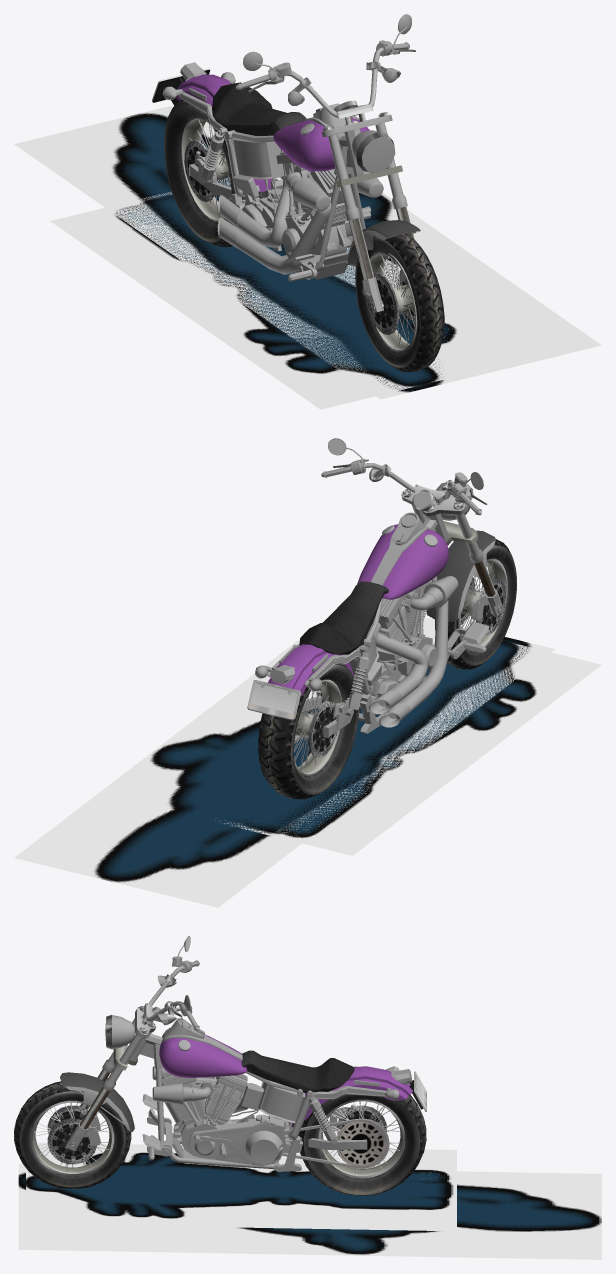
Rendered from bike5_21.fbx.
The picture shows the model from 3 angles, top to bottom: view 1: azimuth 30°, elevation 25°; view 2: azimuth 150°, elevation 25°; view 3: azimuth 270°, elevation 25°; orthographic projection. The views are drawn at different scales.
Parts seen in each view (by area): view 1: Shadow_SunSet, Shadow_DayLight, Reflection, Tyre_F_4, SteeringLights, SteeringChrome, Tyre_B_4, Body, Rim_F_4, Matt, Rim_B_4, SteeringBody; view 2: Shadow_SunSet, Shadow_DayLight, Reflection, Tyre_B_4, Body, Matt, SteeringLights, Rim_B_4, SteeringChrome, Tyre_F_4, Rim_F_4, SteeringBody (+1 smaller); view 3: Shadow_DayLight, Shadow_SunSet, Reflection, Tyre_B_4, Tyre_F_4, Body, Rim_B_4, Rim_F_4, SteeringLights, Matt, SteeringChrome, SteeringBody.
Part boxes in pixels (x1,y1,x2,y2): Shadow_SunSet: [14, 105, 601, 399]; Shadow_DayLight: [50, 178, 529, 409]; Reflection: [162, 62, 416, 281]; Tyre_F_4: [355, 233, 444, 371]; SteeringLights: [235, 14, 420, 312]; SteeringChrome: [248, 47, 415, 310]; Tyre_B_4: [164, 100, 267, 247]; Body: [176, 74, 369, 192]; Rim_F_4: [365, 251, 417, 352]; Matt: [212, 82, 306, 135]; Rim_B_4: [181, 117, 230, 221]; SteeringBody: [346, 220, 420, 264]; Shadow_SunSet: [14, 617, 554, 907]; Shadow_DayLight: [224, 621, 601, 855]; Reflection: [255, 512, 489, 744]; Tyre_B_4: [258, 664, 359, 799]; Body: [268, 524, 448, 696]; Matt: [299, 581, 388, 654]; SteeringLights: [321, 438, 503, 620]; Rim_B_4: [294, 679, 342, 776]; SteeringChrome: [333, 459, 502, 612]; Tyre_F_4: [435, 539, 516, 669]; Rim_F_4: [458, 558, 507, 651]; SteeringBody: [426, 530, 495, 621]; Shadow_DayLight: [26, 1142, 456, 1231]; Shadow_SunSet: [18, 1163, 601, 1259]; Reflection: [130, 1018, 411, 1171]; Tyre_B_4: [298, 1094, 426, 1195]; Tyre_F_4: [14, 1081, 131, 1188]; Body: [159, 1027, 412, 1127]; Rim_B_4: [318, 1099, 405, 1178]; Rim_F_4: [31, 1100, 114, 1176]; SteeringLights: [65, 936, 199, 1151]; Matt: [241, 1050, 354, 1093]; SteeringChrome: [69, 961, 184, 1148]; SteeringBody: [60, 1072, 134, 1131].
Size of the model in its own units: 136 by 135 by 314.
